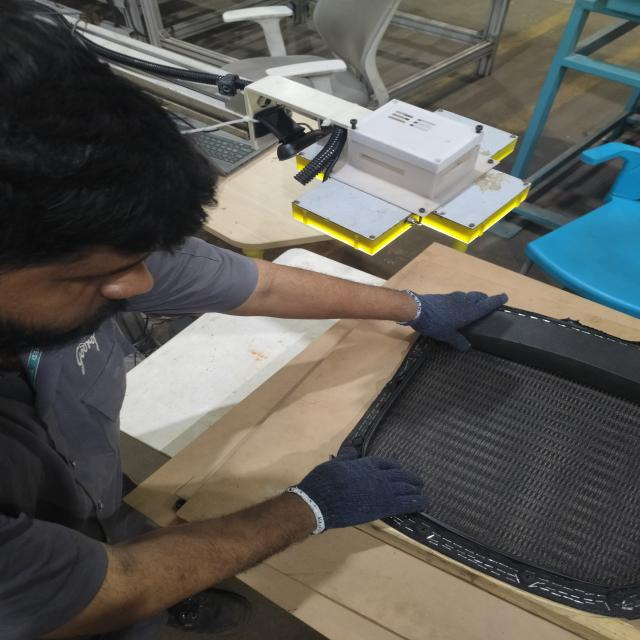Gloves-Detection: (281, 438, 436, 550), (389, 269, 498, 344)
